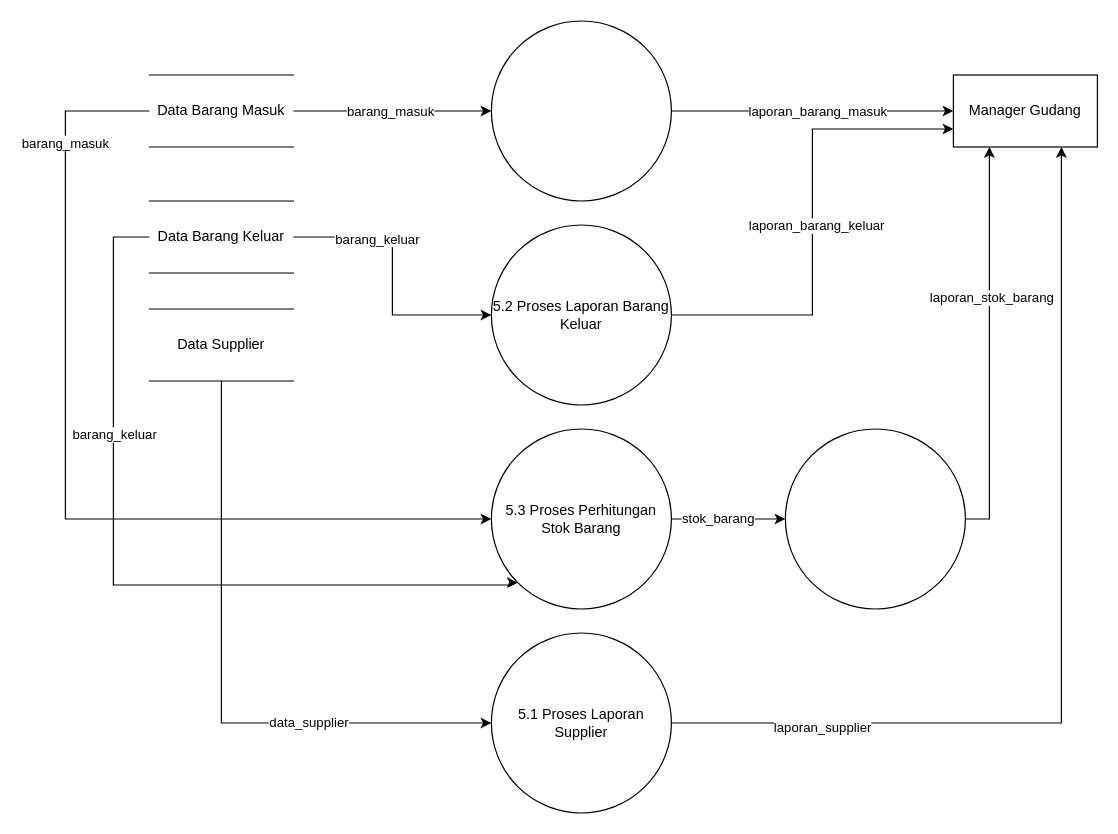
Image size: 1118x834. Some labels were removed from this diagram. Each missing label, with the centre of its shape:
"5.1 Proses Laporan Barang Masuk" goes at pixel 580 110.
"5.4 Proses Laporan Stok Barang" goes at pixel 874 518.
